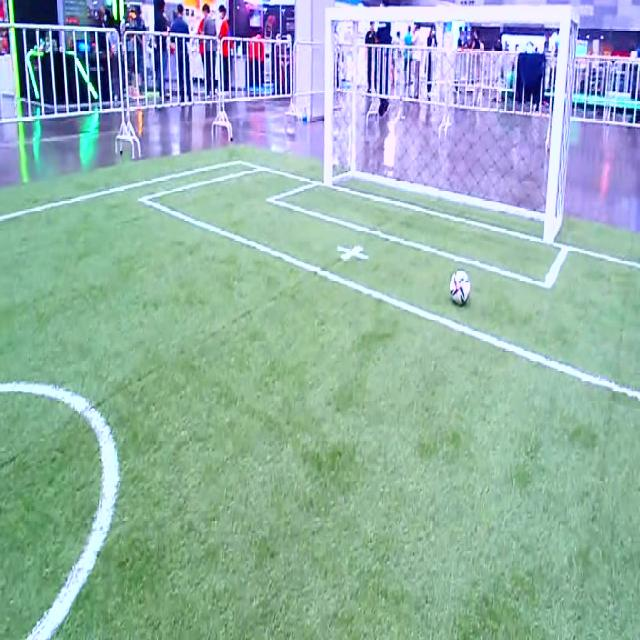ball: (450, 270, 471, 306)
